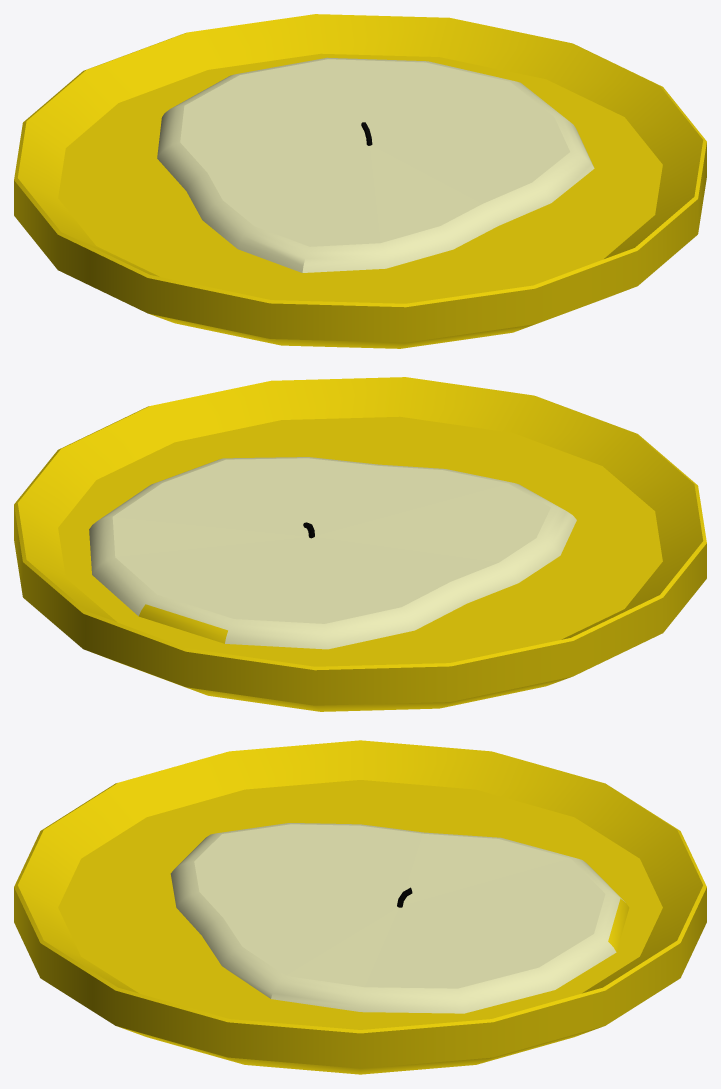
The model's file is CandleHolderDead.fbx.
3 renders of one model, top to bottom at view 1: azimuth 30°, elevation 25°; view 2: azimuth 150°, elevation 25°; view 3: azimuth 270°, elevation 25°, orthographic.
Visible parts, largest first — view 1: pCylinder89; view 2: pCylinder89; view 3: pCylinder89.
Part boxes in pixels (<box>): pCylinder89: <box>14,14,706,348</box>; pCylinder89: <box>14,377,706,711</box>; pCylinder89: <box>14,740,706,1074</box>.
Size of the model in its own units: 1.6 by 0.1858 by 1.6.
